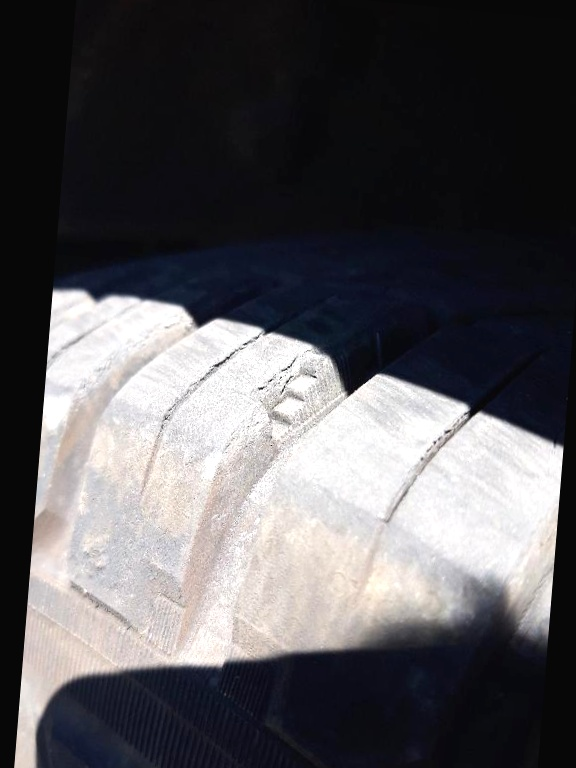temoin:80: (242, 332, 350, 460)
